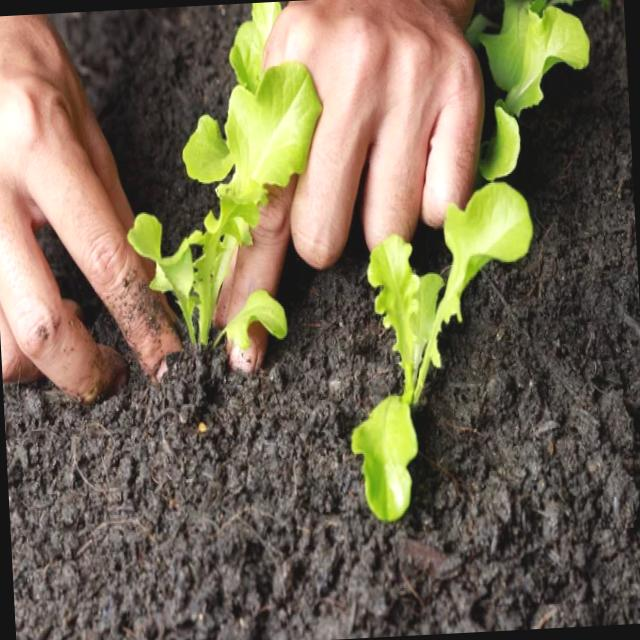verde: (127, 2, 321, 342), (351, 182, 531, 520), (214, 289, 285, 348)
